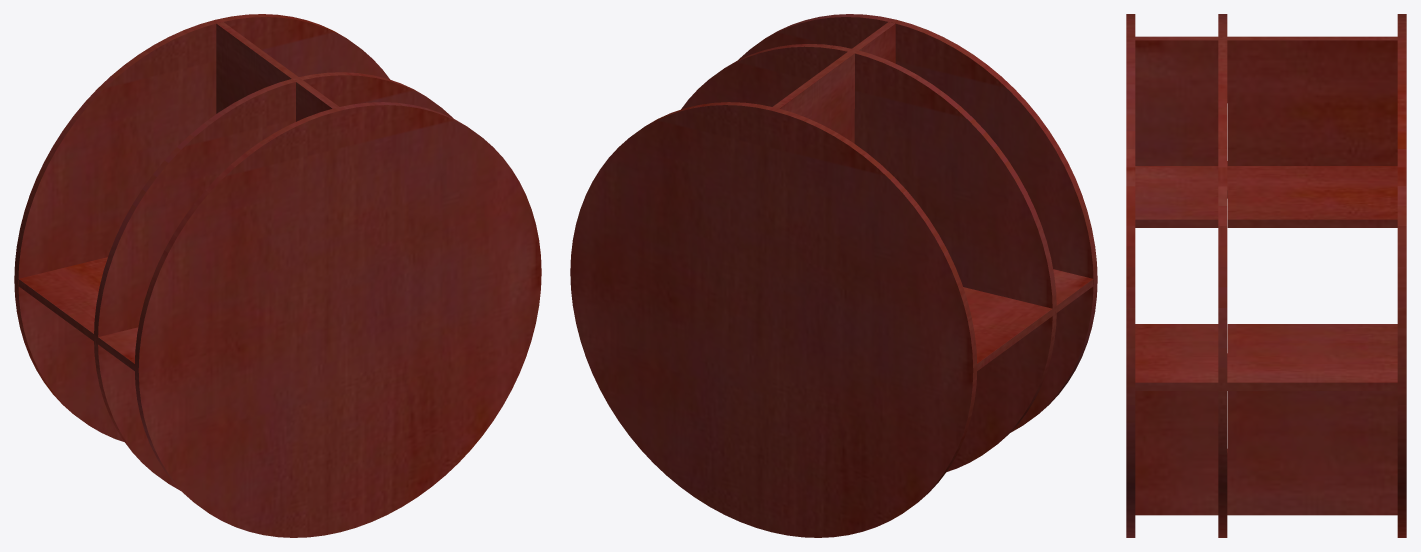
3 renders of one model, left to right at view 1: azimuth 30°, elevation 25°; view 2: azimuth 150°, elevation 25°; view 3: azimuth 270°, elevation 25°, orthographic. The views are drawn at different scales.
Parts seen in each view (by area): view 1: round coffee table by smart furniture r f; view 2: round coffee table by smart furniture r f; view 3: round coffee table by smart furniture r f.
Boxes of the visible parts, x1=… form: round coffee table by smart furniture r f: x1=14, y1=14, x2=541, y2=537; round coffee table by smart furniture r f: x1=570, y1=14, x2=1097, y2=537; round coffee table by smart furniture r f: x1=1126, y1=14, x2=1406, y2=537.
Bounding box in the file's own units: 36 × 36 × 19.25.
Materials: 2 (1 with a texture image).
